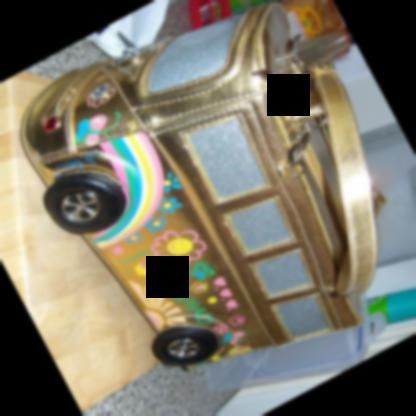handbag: (19, 0, 388, 374)
